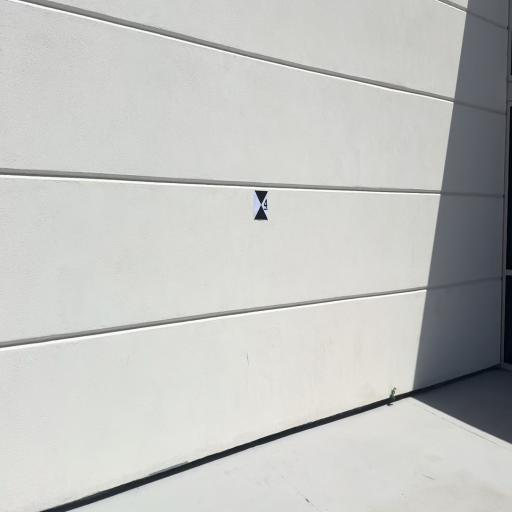target4: (254, 190, 269, 220)
